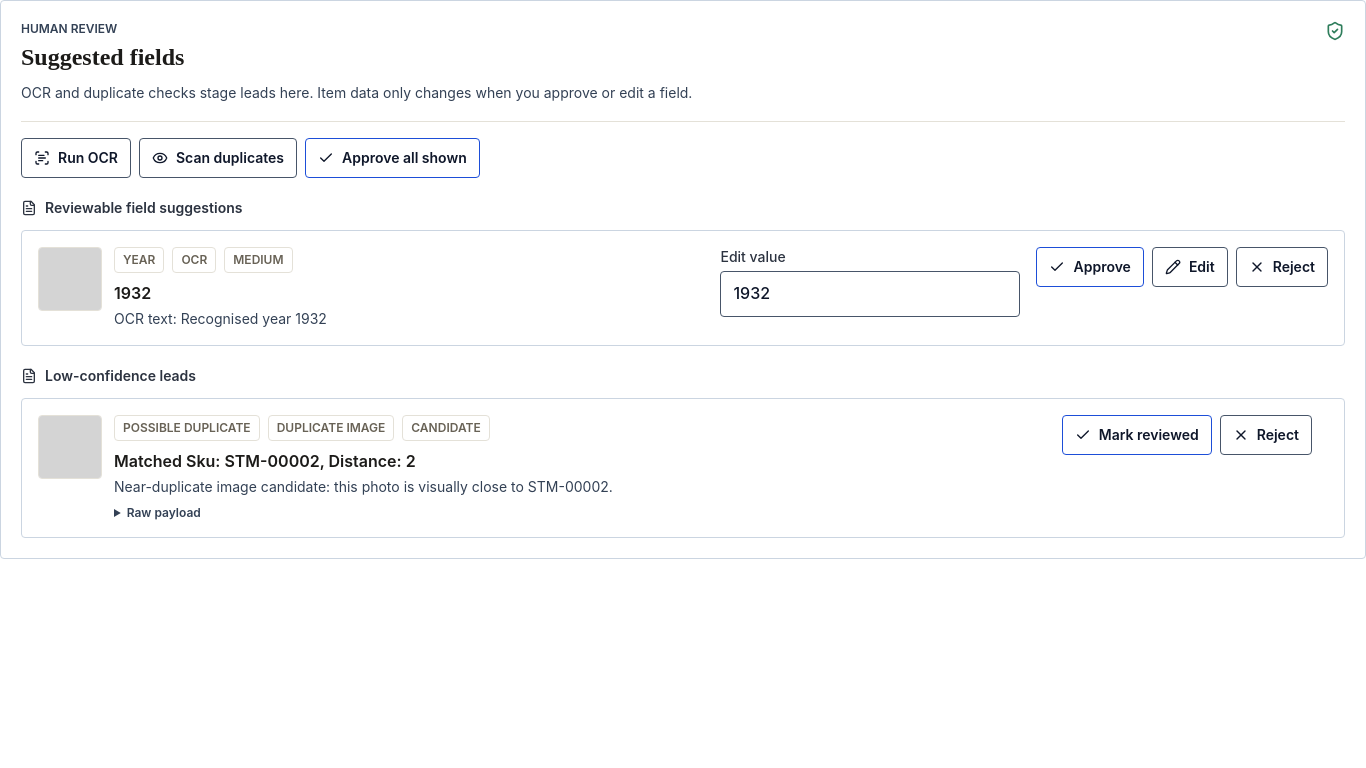
SuggestionReviewPanel shows OCR unavailable and keeps candidate leads separate
Check: the heading "Reviewable field suggestions" is shown, box [45,198,242,218]
Check: the heading "Low-confidence leads" is shown, box [45,366,196,386]
Click the button "Run OCR".
click(76, 158)  # box [21,138,131,178]
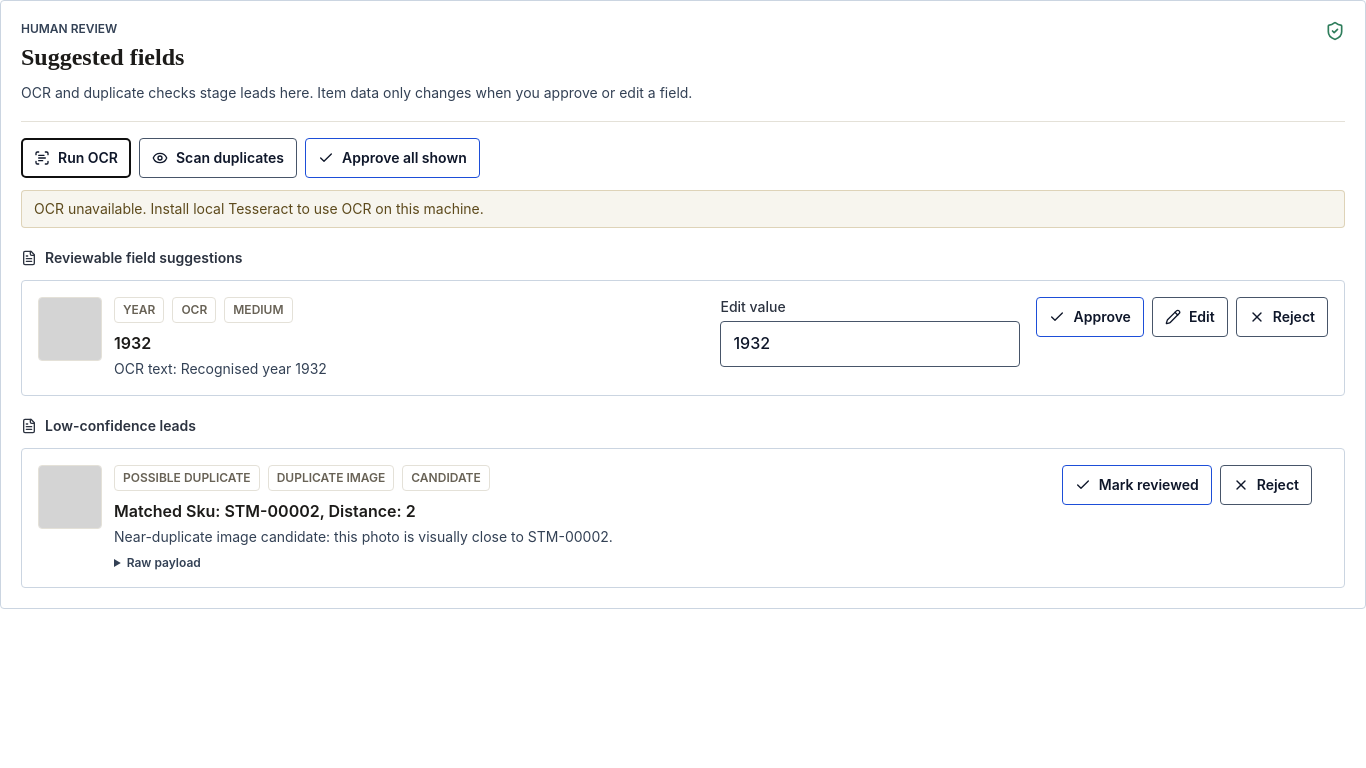
Check: the text "OCR unavailable" is shown, box [34,200,484,217]
